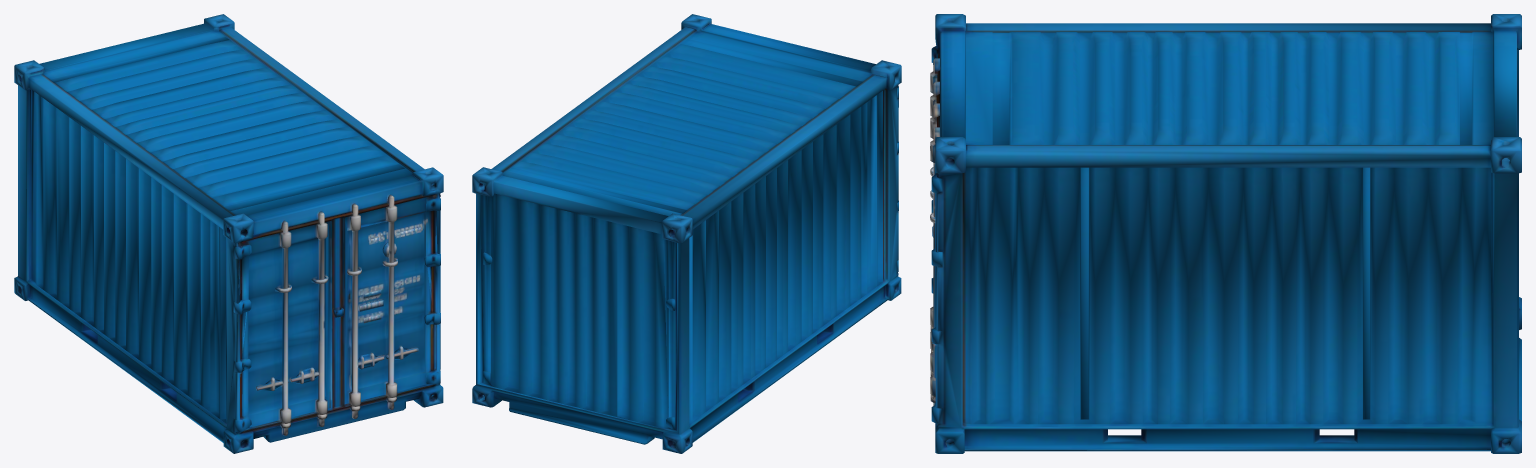
File: blue_shipping_container_60b5ea93_v1.glb
The picture shows the model from 3 angles, left to right: view 1: azimuth 30°, elevation 25°; view 2: azimuth 150°, elevation 25°; view 3: azimuth 270°, elevation 25°; orthographic projection. The views are drawn at different scales.
Parts seen in each view (by area): view 1: material; view 2: material; view 3: material.
Part boxes in pixels (x1,y1,x2,y2): material: [14, 14, 443, 453]; material: [472, 14, 901, 453]; material: [930, 14, 1521, 453].
Size of the model in its own units: 1.04 by 1.08 by 1.9.
1 material, 1 textured.
